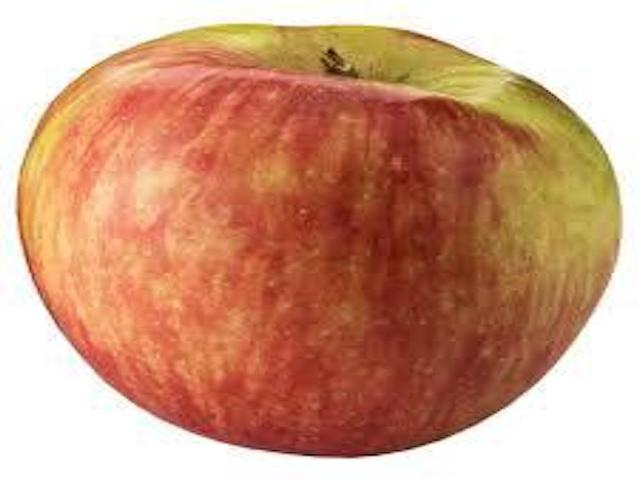apple: (10, 16, 628, 466)
